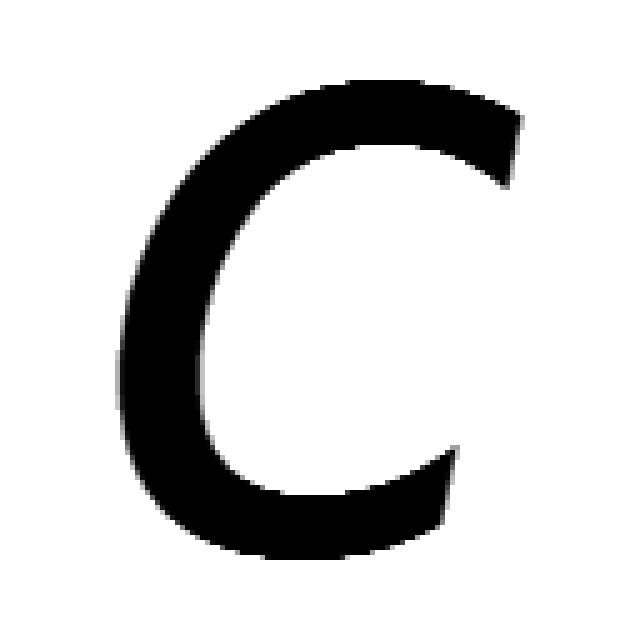C: (120, 80, 520, 560)
